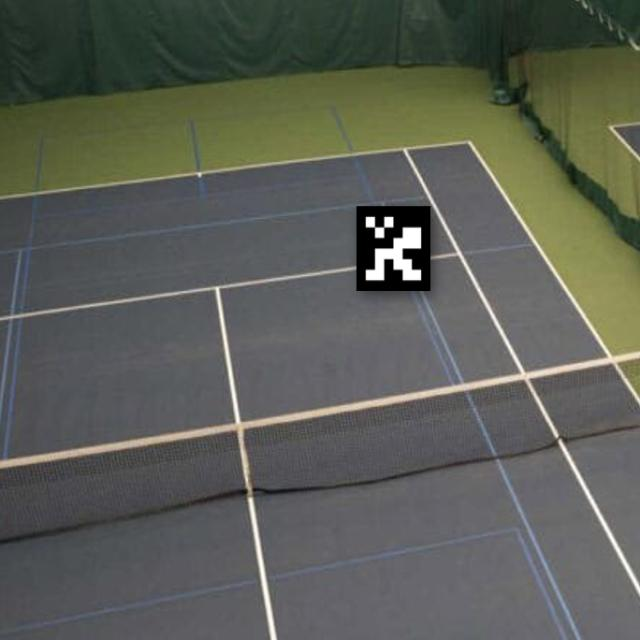marker: (348, 194, 445, 307)
